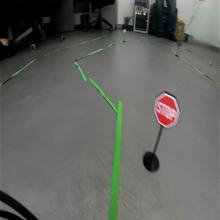stop: (153, 92, 180, 129)
